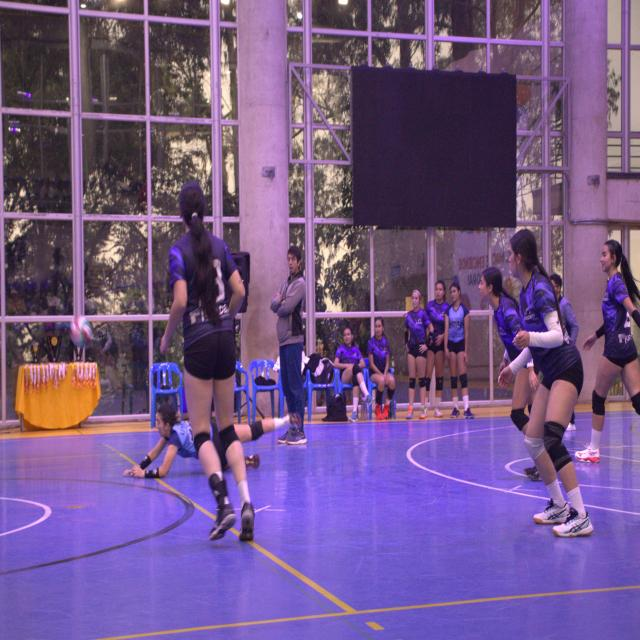volleyball: (70, 313, 92, 348)
